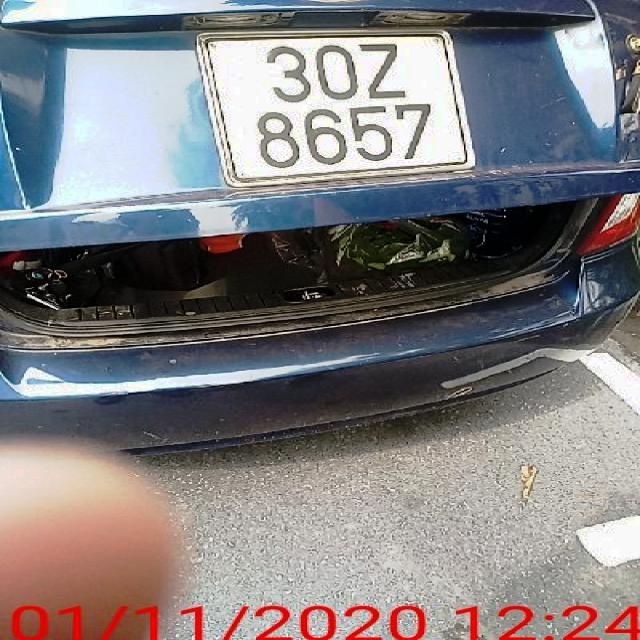license_plate: (207, 35, 470, 177)
